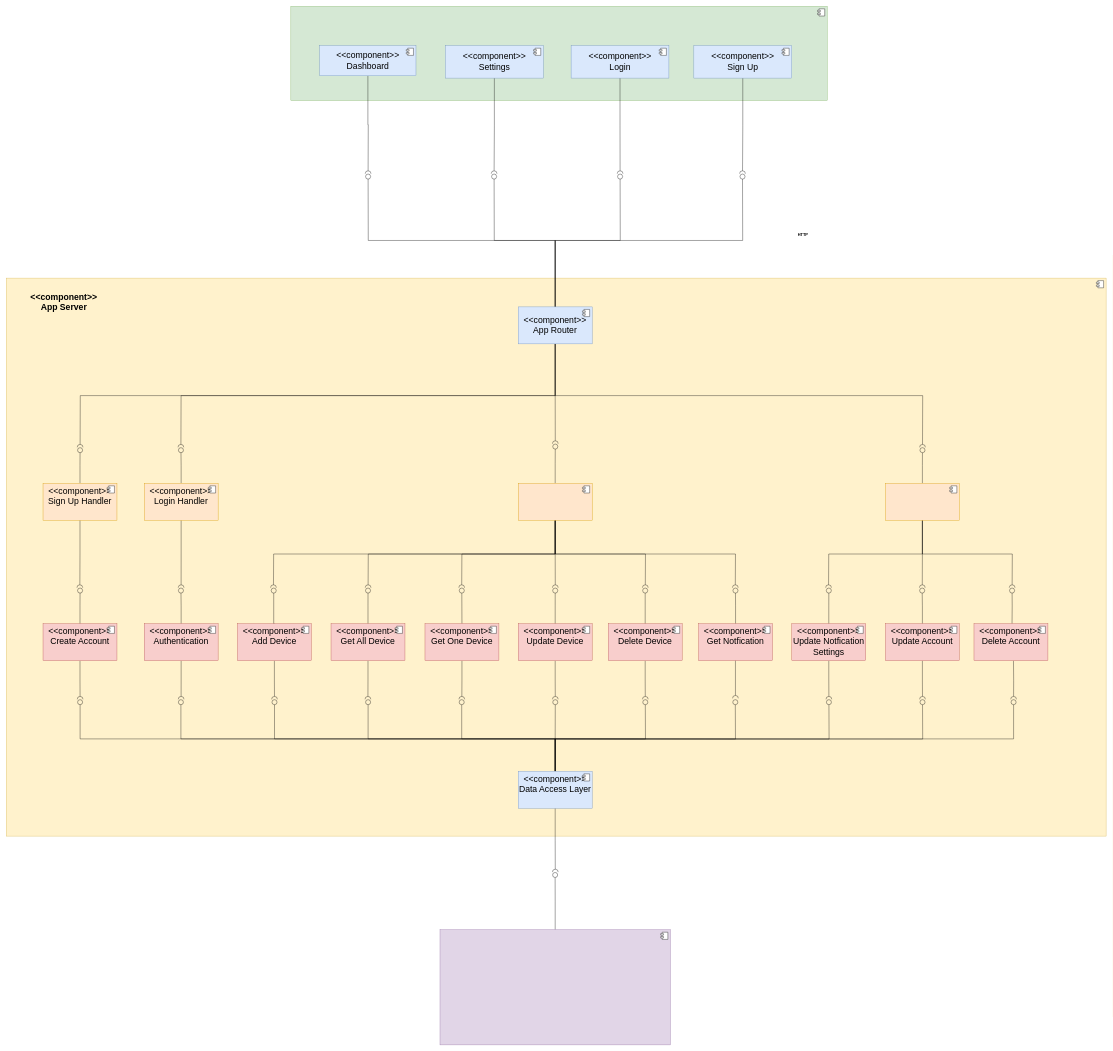
Some shapes in this 1113 by 1051 pixel diagram are drawn without their labels. The shapes that lost their labels are listed below. From the top down, each one's box as (x1, y1, x2, y2) in pixels, then its label:
(290, 6, 827, 101): <<component>> Client (Web browser)
(518, 483, 592, 520): <<component>> Dashboard Handler
(885, 483, 959, 520): <<component>> Settings Handler
(440, 929, 670, 1045): <<datastore>> postgres
